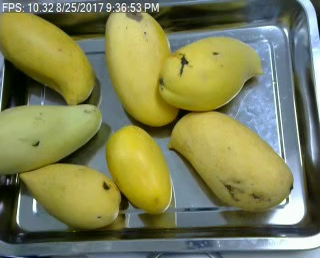Mango: (167, 106, 298, 213), (96, 3, 188, 127), (0, 0, 102, 105), (4, 151, 131, 230), (156, 31, 269, 113), (0, 102, 104, 181), (99, 124, 175, 213)
